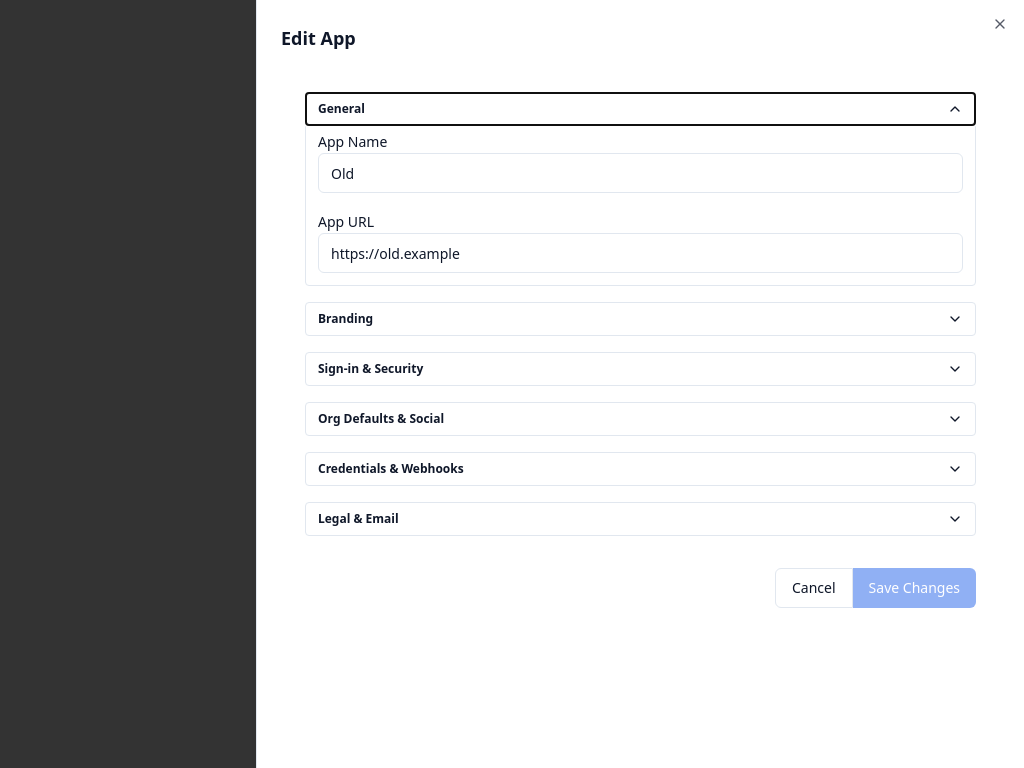
AppEditDrawer › removes a redirect URI row
Click the button "Sign-in & Security" at {"x": 371, "y": 368}, box [306, 353, 975, 385]
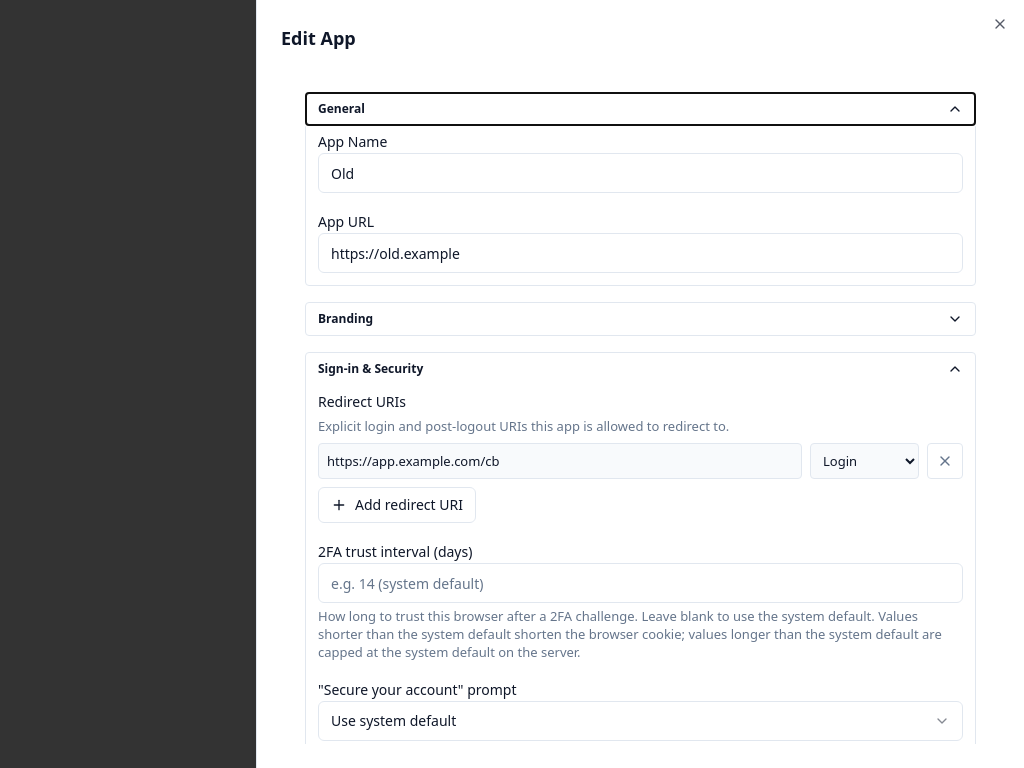
Click the button named "Remove redirect URI" at {"x": 945, "y": 461}, box [927, 443, 963, 479]
(page scrolled)
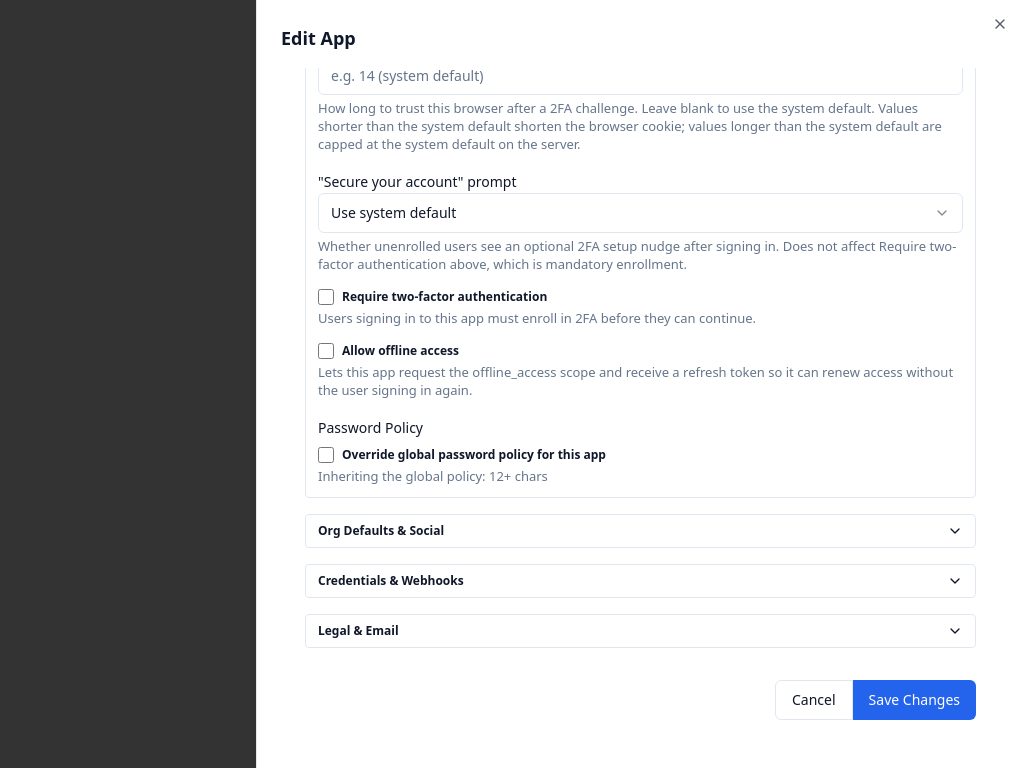
Expected: the button "Save Changes" is enabled, [853, 680, 976, 720]
